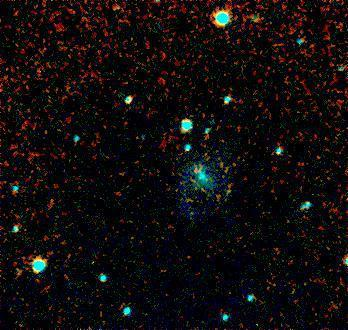star: (211, 177, 241, 207)
